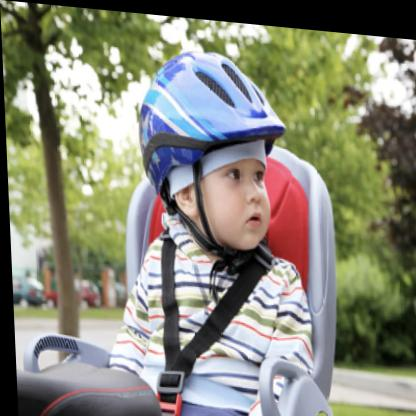With Helmet: (121, 29, 289, 253)
